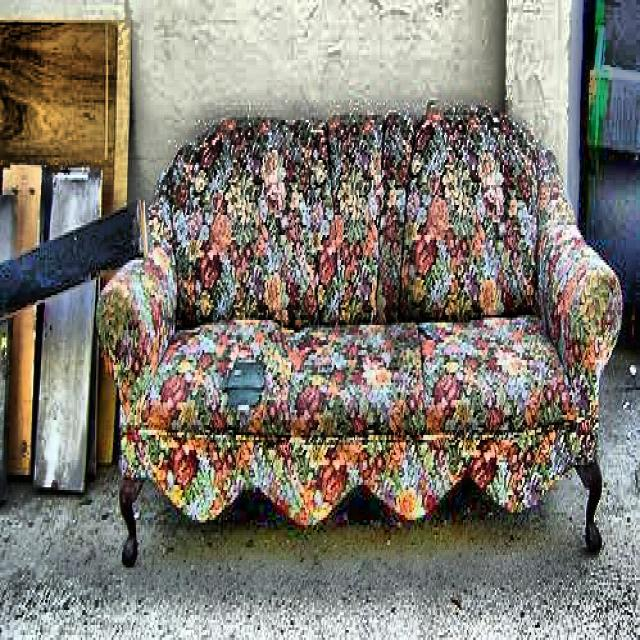sofa: (95, 102, 621, 568)
